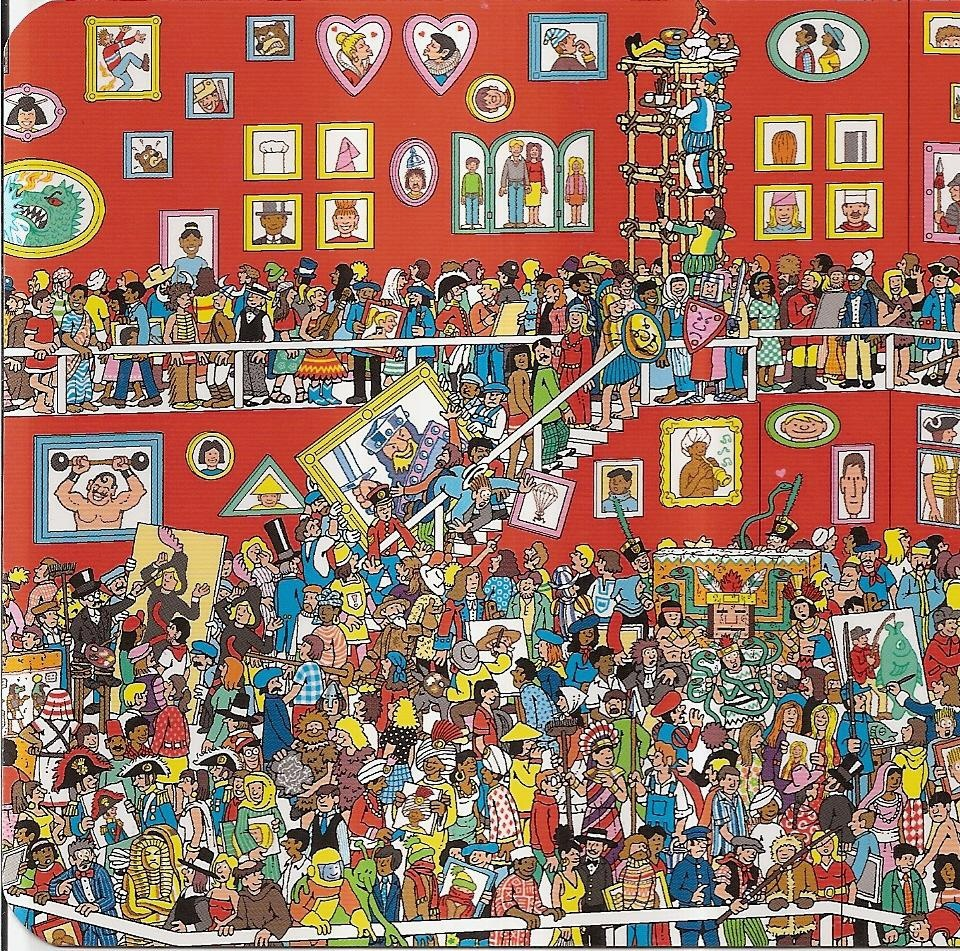waldo: (233, 737, 262, 769)
